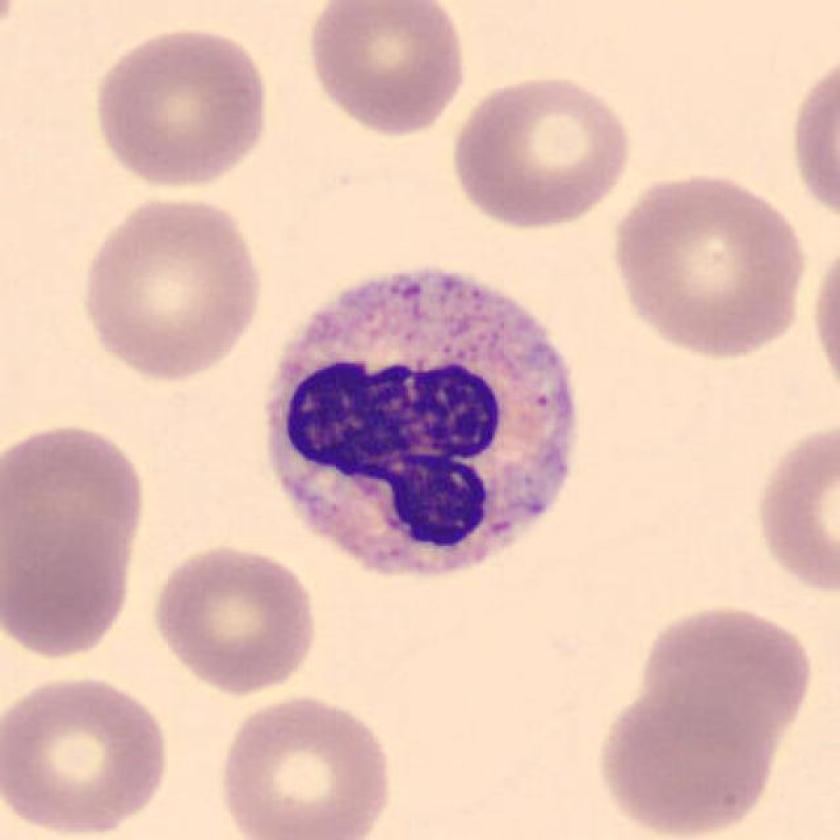neutrophil: (265, 270, 575, 575)
